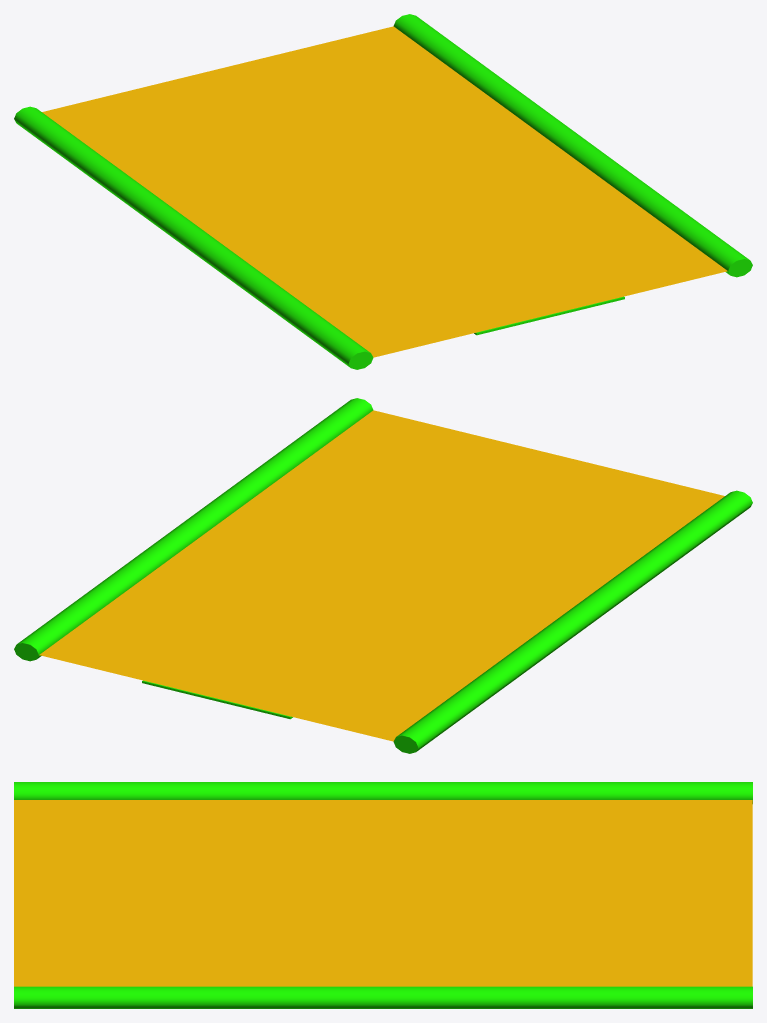
The model's file is Ramp F.FBX.
3 renders of one model, top to bottom at view 1: azimuth 30°, elevation 25°; view 2: azimuth 150°, elevation 25°; view 3: azimuth 270°, elevation 25°, orthographic. The views are drawn at different scales.
Parts seen in each view (by area): view 1: Plane002; view 2: Plane002; view 3: Plane002.
Part boxes in pixels (bbox=[...]): Plane002: bbox=[14, 14, 752, 369]; Plane002: bbox=[14, 398, 752, 753]; Plane002: bbox=[14, 782, 752, 1008].
Bounding box in the file's own units: 19.04 × 0.7435 × 27.29.
